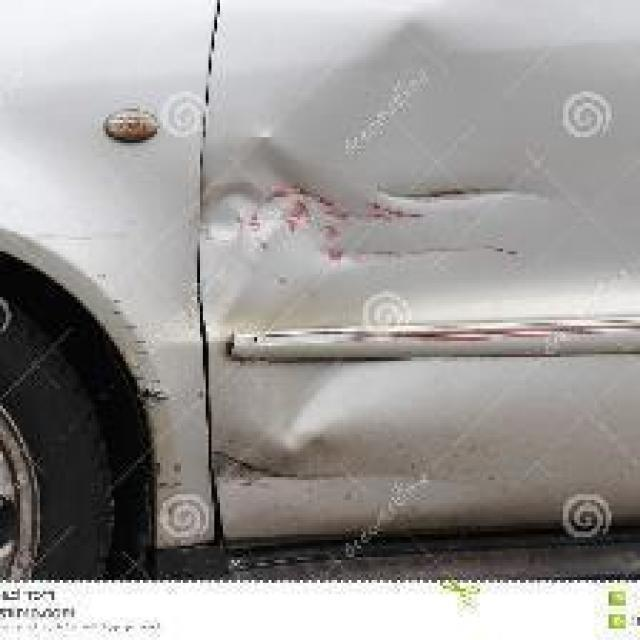damaged: (37, 182, 637, 498)
